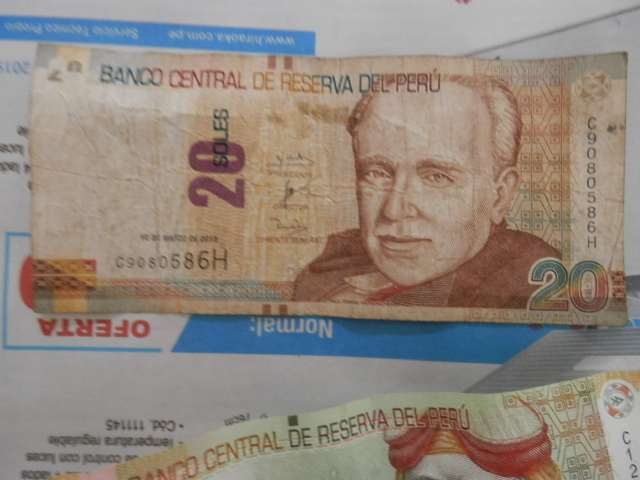B20: (36, 42, 630, 325)
